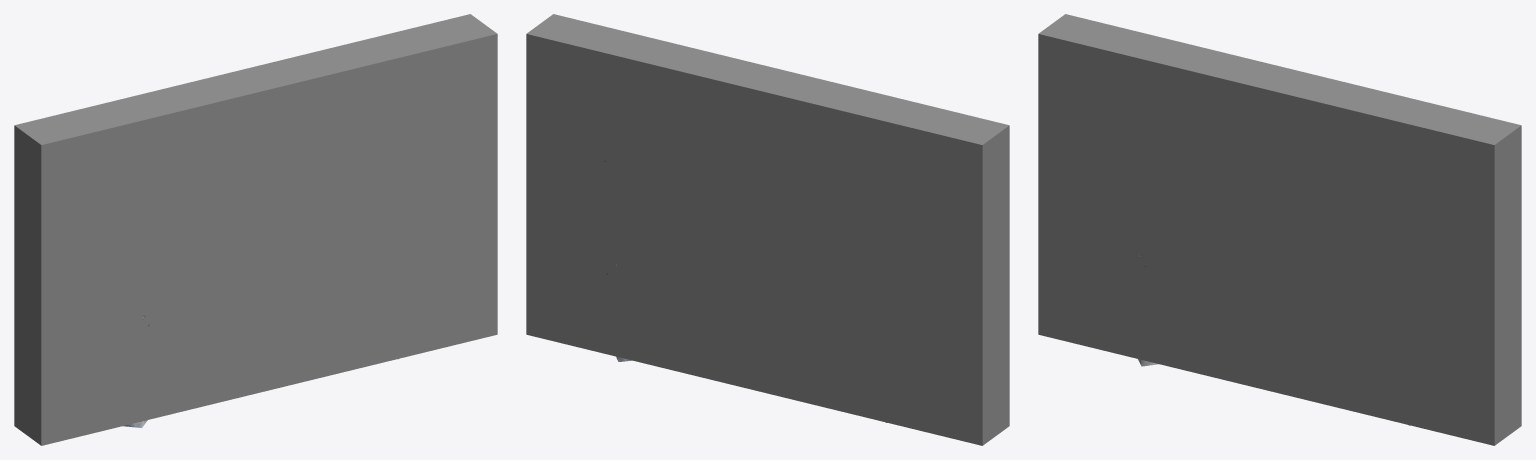
Rendered from Scene_Object_TianShan_ZhaLan_01.FBX.
3 views of the same model, side by side, from view 1: azimuth 30°, elevation 25°; view 2: azimuth 150°, elevation 25°; view 3: azimuth 330°, elevation 25° (orthographic).
Parts seen in each view (by area): view 1: Scene_Object_TianShan_ZhaLan_01_Xzm; view 2: Scene_Object_TianShan_ZhaLan_01_Xzm; view 3: Scene_Object_TianShan_ZhaLan_01_Xzm.
Boxes of the visible parts, x1,y1,x2,y2 form: Scene_Object_TianShan_ZhaLan_01_Xzm: (14, 14, 497, 445); Scene_Object_TianShan_ZhaLan_01_Xzm: (526, 14, 1009, 445); Scene_Object_TianShan_ZhaLan_01_Xzm: (1038, 14, 1521, 445).
Size of the model in its own units: 304 by 197 by 32.14.
